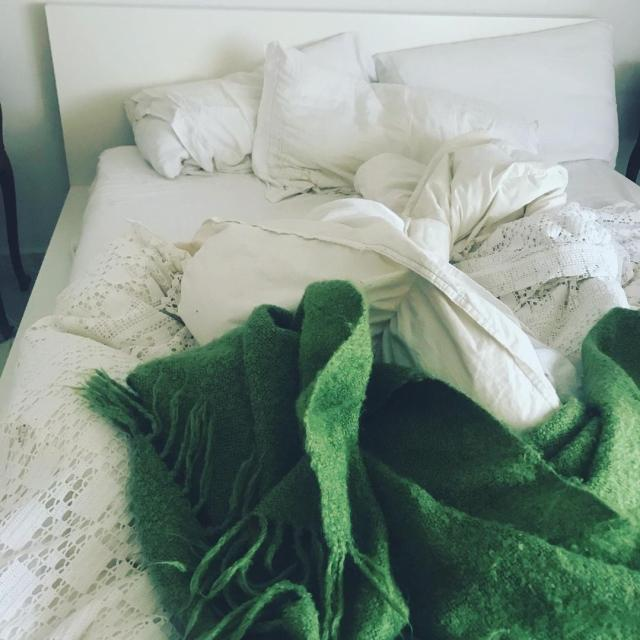bed: (50, 69, 640, 640)
